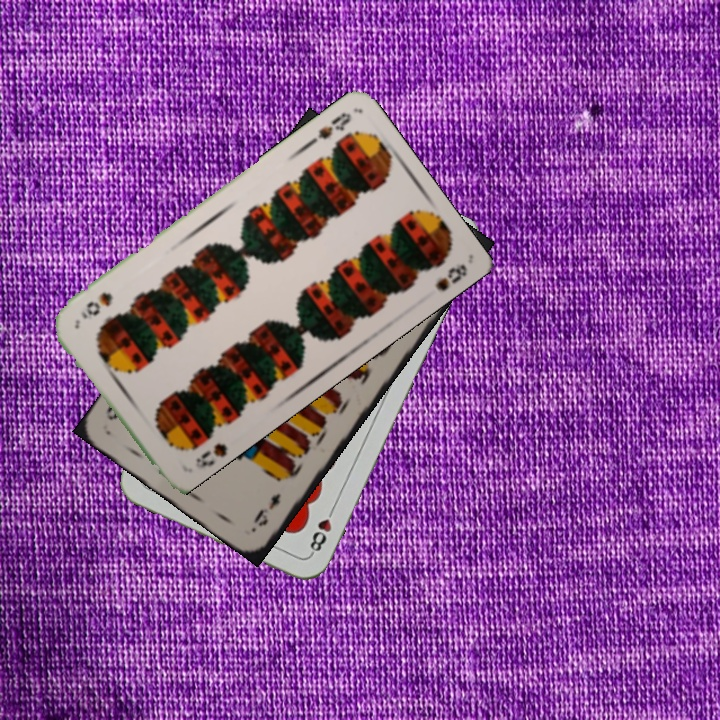E9: (249, 489, 284, 530)
H8: (305, 502, 338, 558)
S8: (302, 108, 354, 150), (191, 438, 231, 472)
